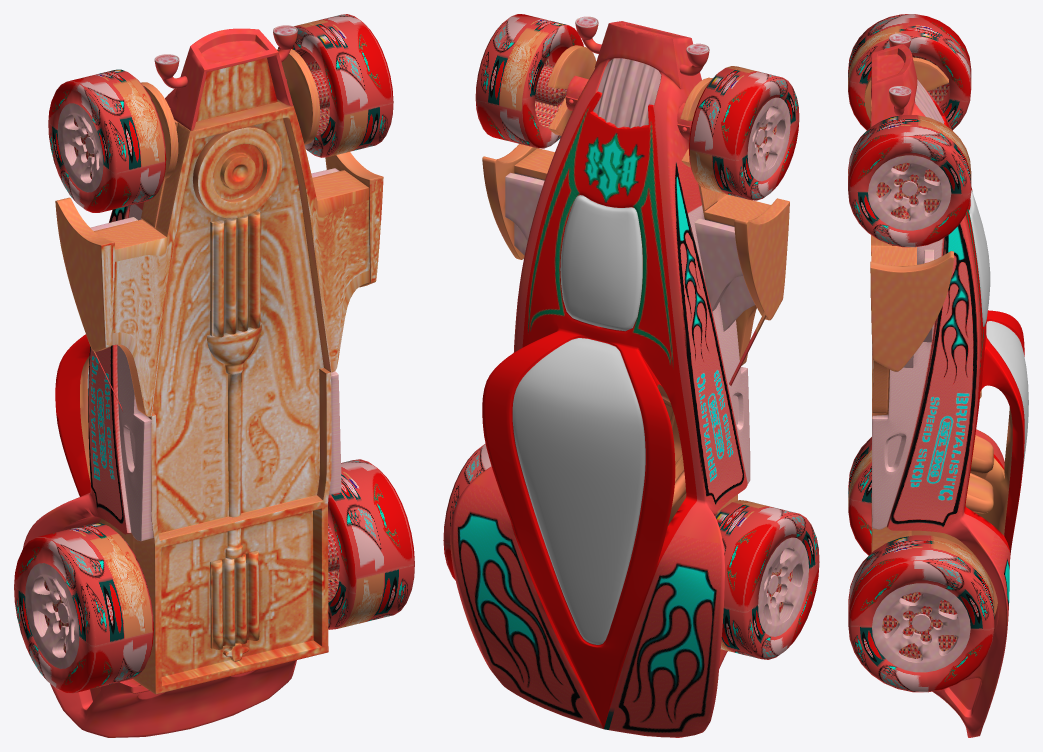
Rendered from brutalistic.glb.
3 views of the same model, side by side, from view 1: azimuth 30°, elevation 25°; view 2: azimuth 150°, elevation 25°; view 3: azimuth 270°, elevation 25° (orthographic). The views are drawn at different scales.
Parts seen in each view (by area): view 1: Body, Wheel4, Wheel2, Wheel3, Wheel1; view 2: Body, Wheel4, Wheel2, Wheel1, Wheel3; view 3: Body, Wheel3, Wheel1, Wheel2, Wheel4.
Part boxes in pixels (x1,y1,x2,y2): Body: (23,25,383,737); Wheel4: (14,523,153,693); Wheel2: (48,69,166,212); Wheel3: (328,459,414,629); Wheel1: (278,14,393,157); Body: (450,16,789,737); Wheel4: (715,500,819,659); Wheel2: (688,66,799,200); Wheel1: (475,14,583,148); Wheel3: (443,443,491,580); Body: (864,33,1028,737); Wheel3: (848,535,994,692); Wheel1: (848,115,971,247); Wheel2: (848,14,971,130); Wheel4: (848,437,871,555).
Size of the model in its own units: 3.23 by 6.85 by 1.71.
Materials: 10 (9 with a texture image).
